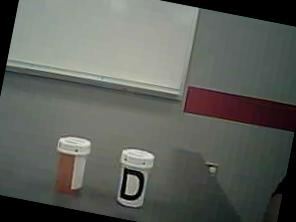Bottle D: (108, 144, 161, 216)
